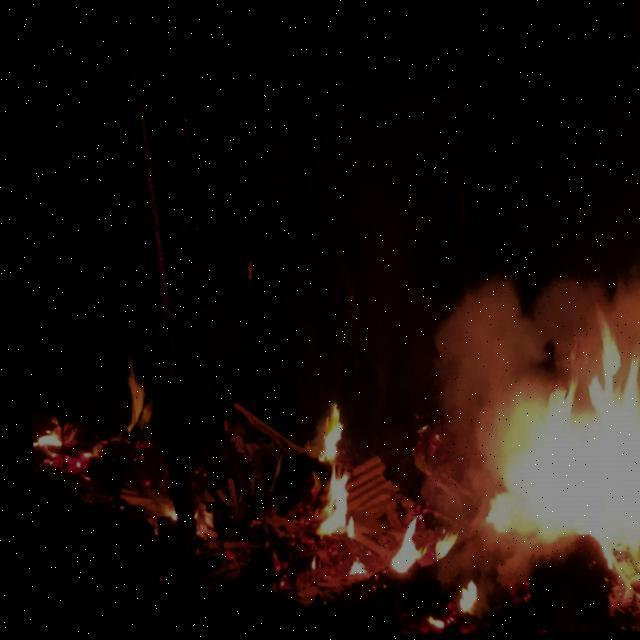Fire: (447, 312, 639, 560), (110, 353, 150, 434), (308, 467, 349, 535), (378, 512, 419, 577), (302, 404, 341, 463), (28, 414, 61, 449), (442, 582, 470, 614), (422, 534, 452, 562)
